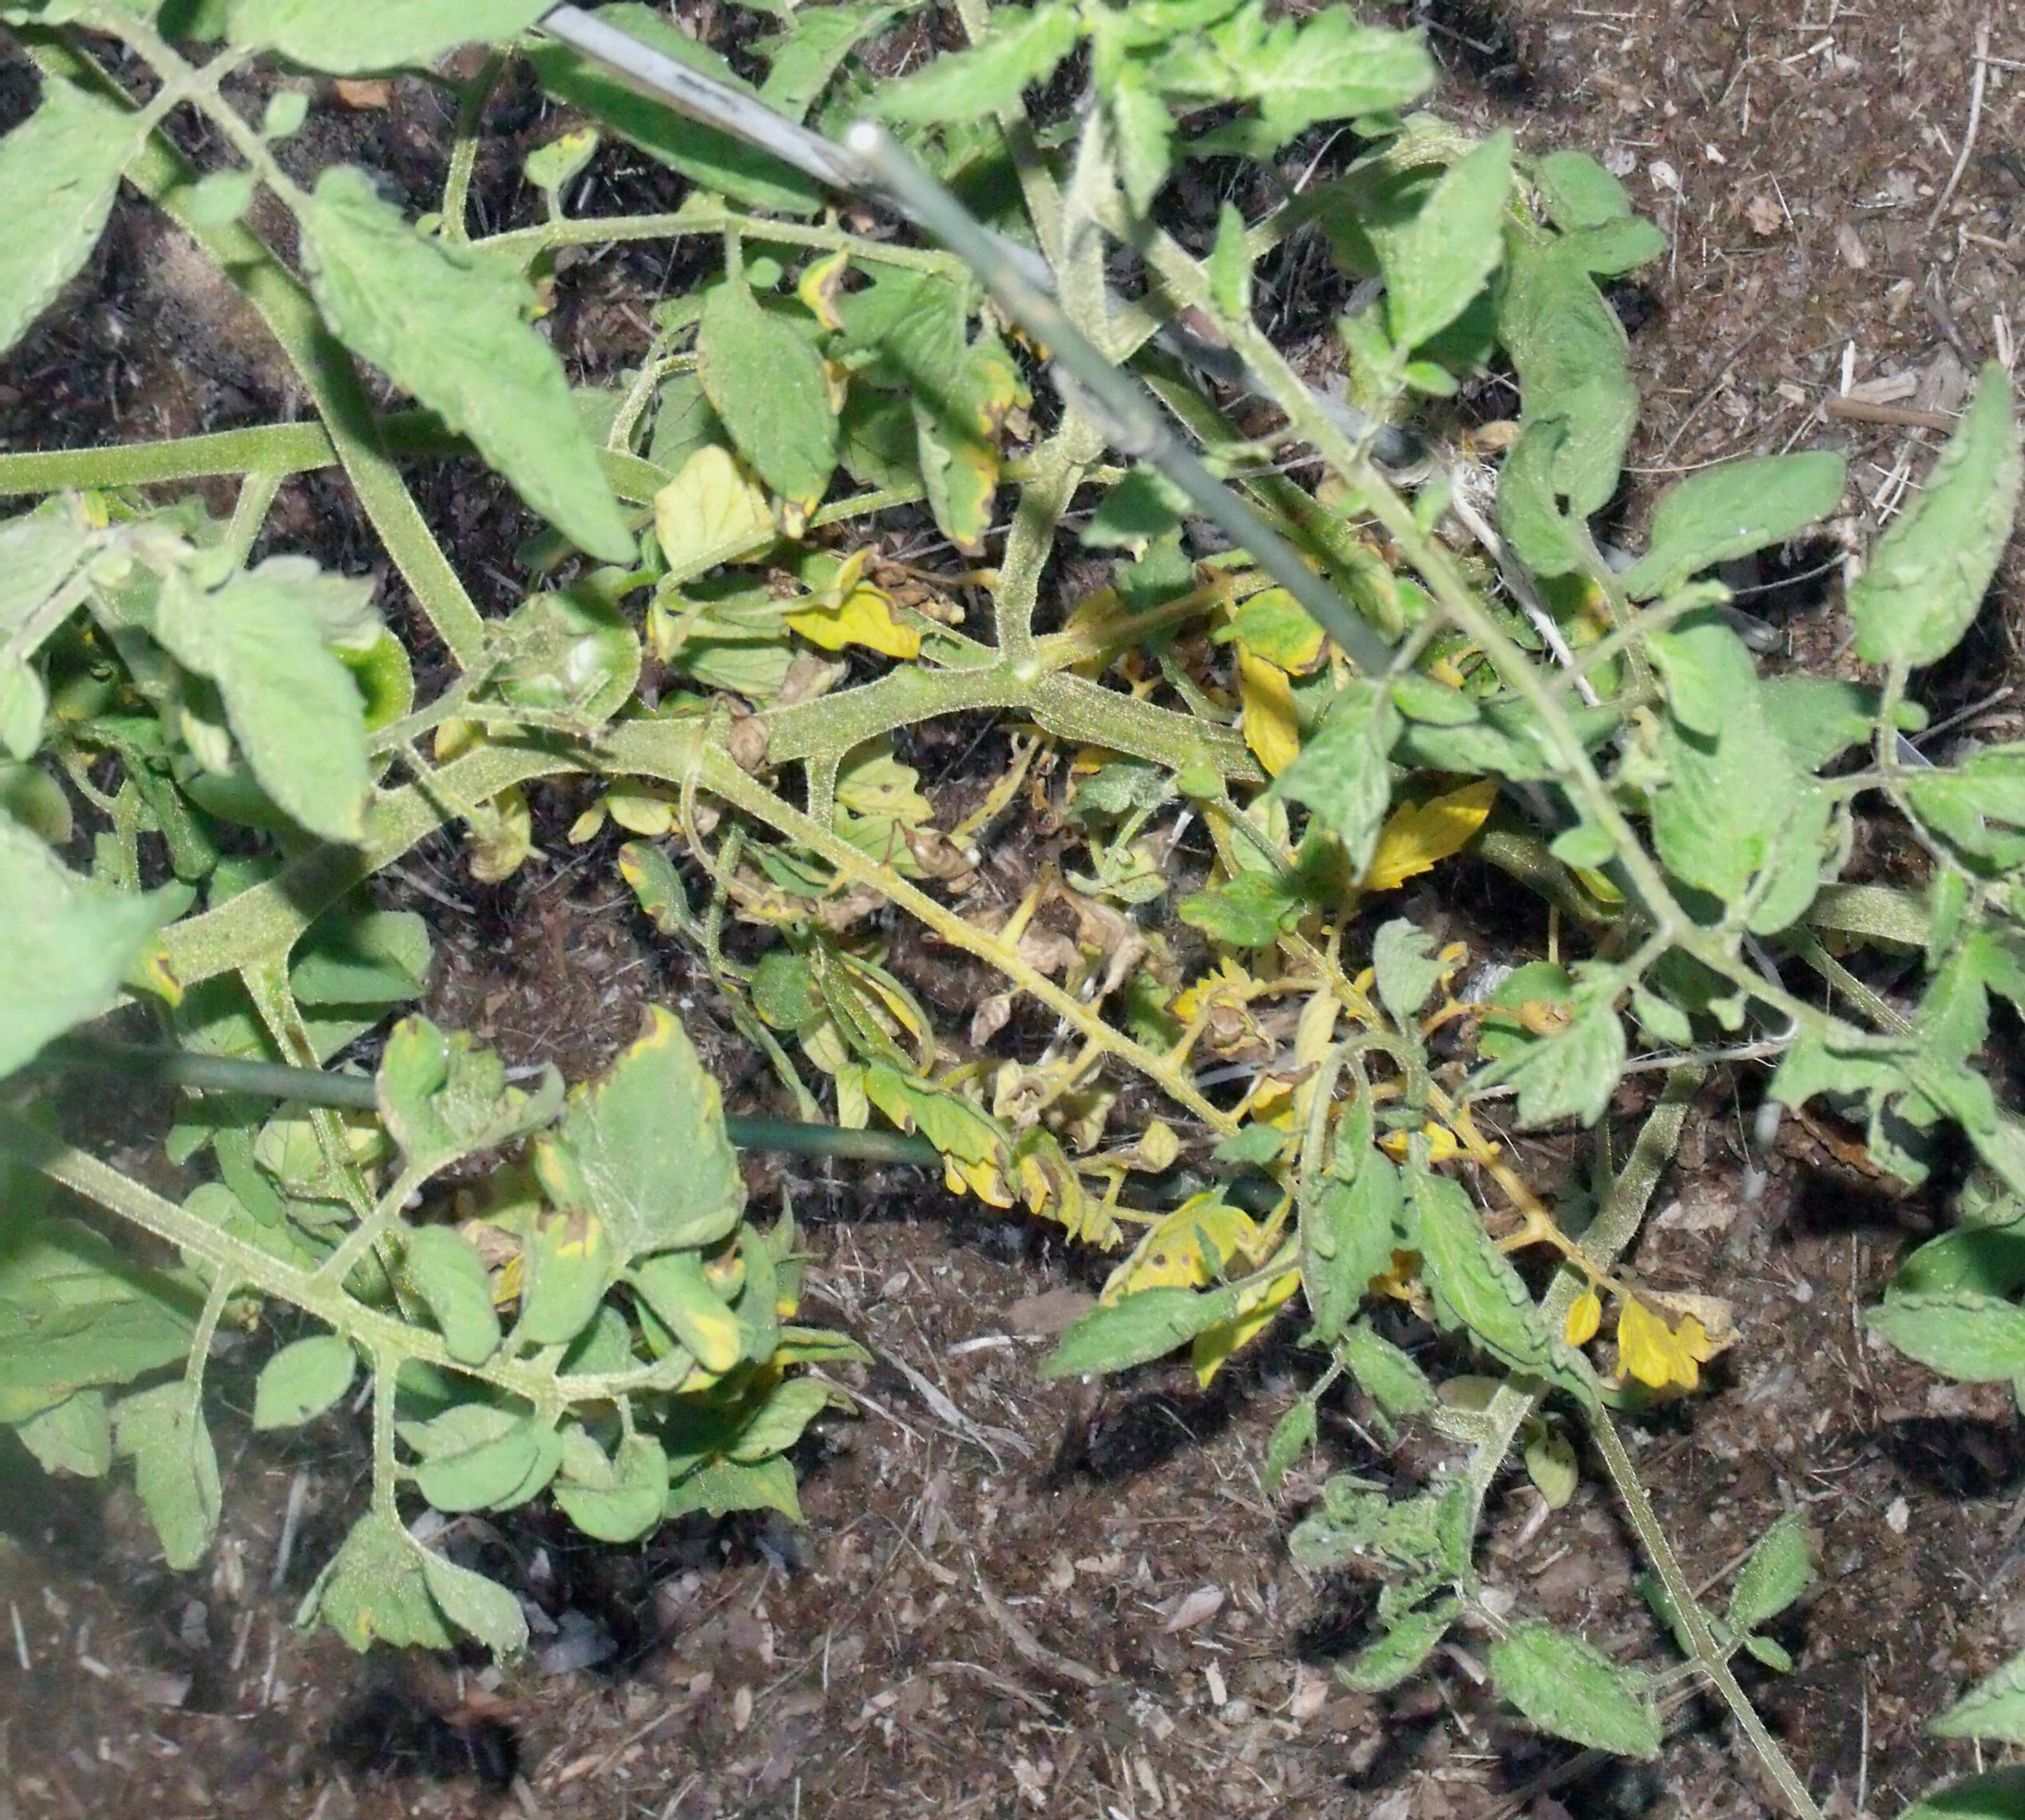Tomato leaf bacterial spot: (270, 158, 616, 569), (158, 522, 388, 859), (840, 255, 1066, 569), (515, 1010, 775, 1281), (1305, 135, 1563, 394), (1581, 430, 1867, 641), (1082, 0, 1458, 156), (1379, 1101, 1567, 1411), (685, 267, 887, 550), (369, 957, 539, 1223), (0, 39, 121, 395), (195, 0, 627, 98)
